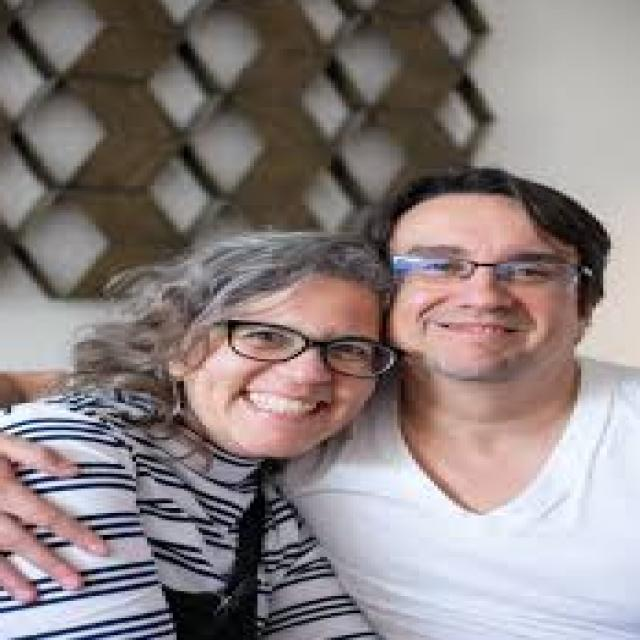Glasses: (217, 314, 405, 383), (386, 252, 595, 289)
